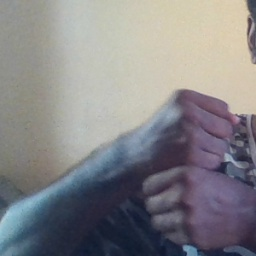G: (131, 85, 243, 256)
